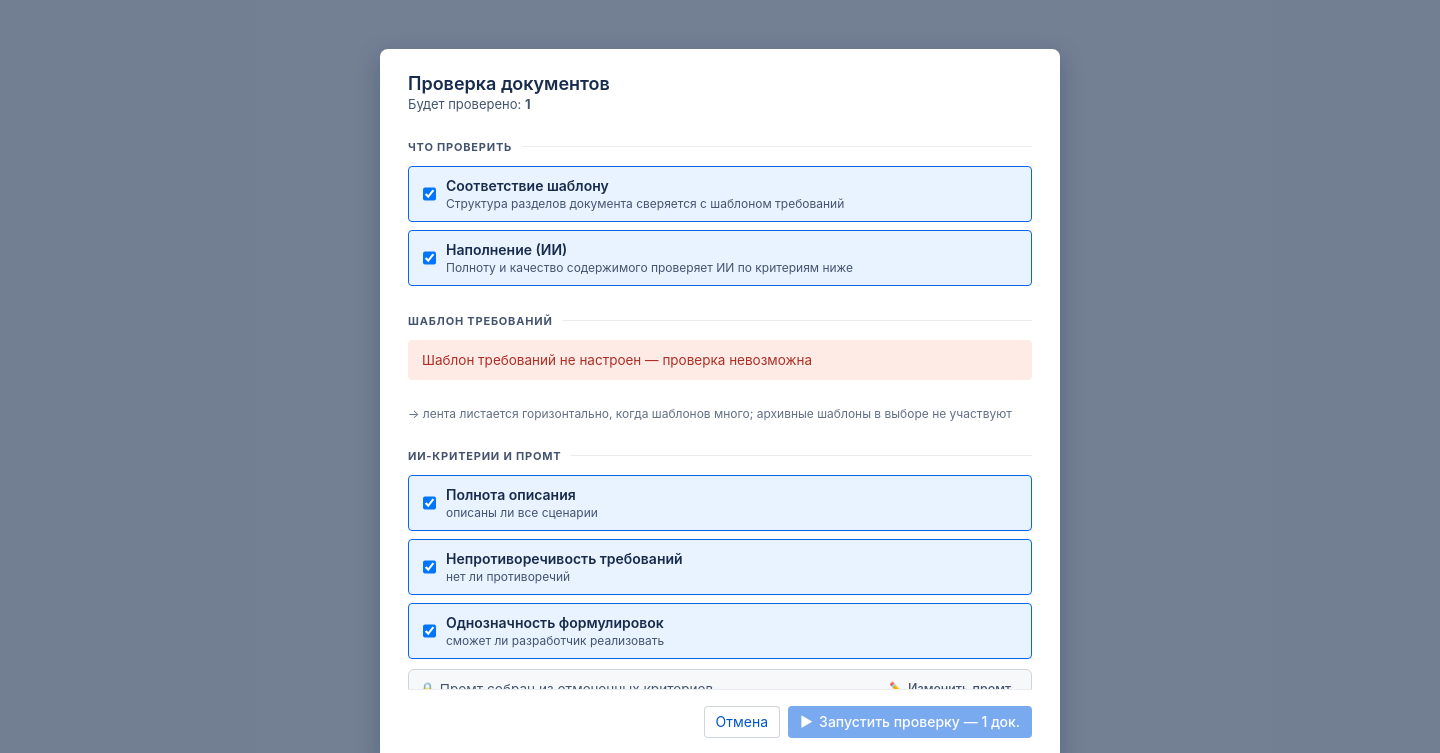
Test case: ValidationDialog: выбор критериев проверки › шаблона нет в системе: с критерием шаблона запуск заблокирован, без него — доступен
The image size is (1440, 753).
Expected: the button "▶ Запустить проверку — 1 док." is disabled, [788,705,1032,737]
Click the checkbox labelled "Соответствие шаблону".
click(430, 194)  # box [423,177,436,211]
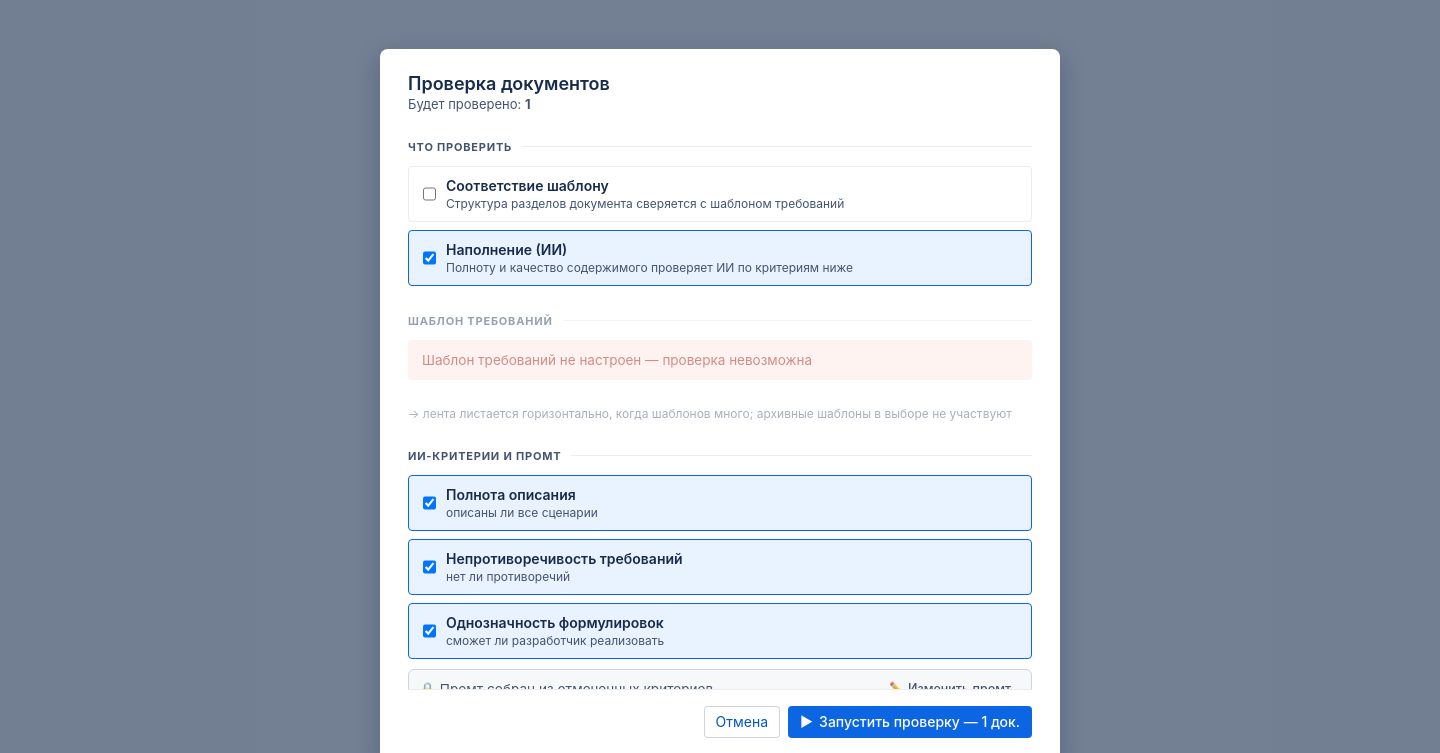
Expected: the button "▶ Запустить проверку — 1 док." is enabled, [788,705,1032,737]
